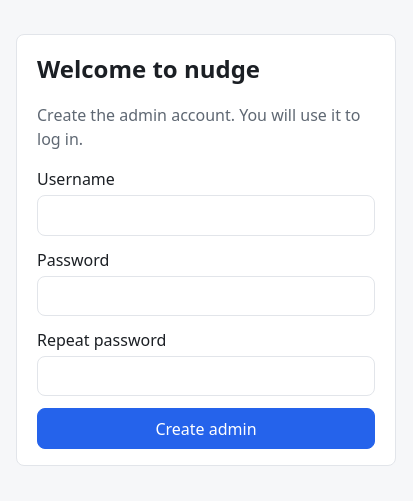
Test: SetupView › shows the server error
In the field named "username": (206, 216) [37,195,375,236], type "admin"
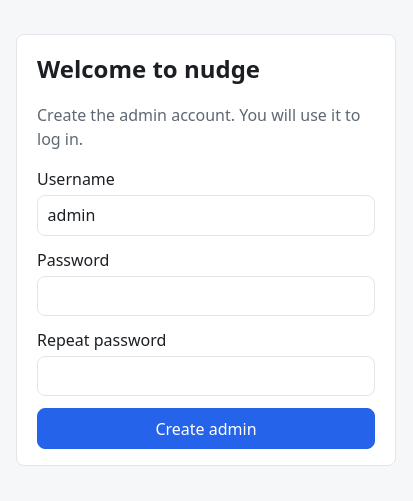
In the password field named "password": (206, 296) [37,276,375,316], type "longenough"
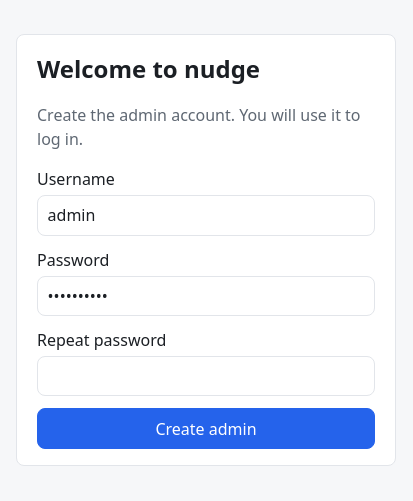
In the password field named "repeat": (206, 376) [37,356,375,396], type "longenough"
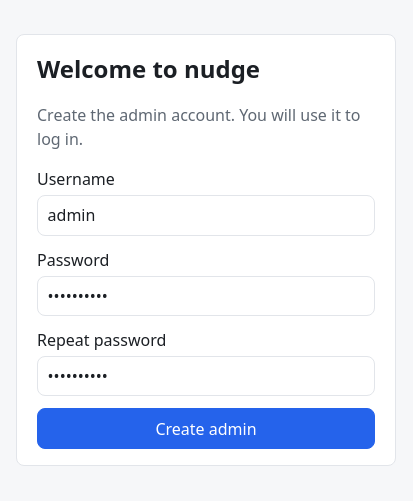
Submit the form, box [37,167,375,449]
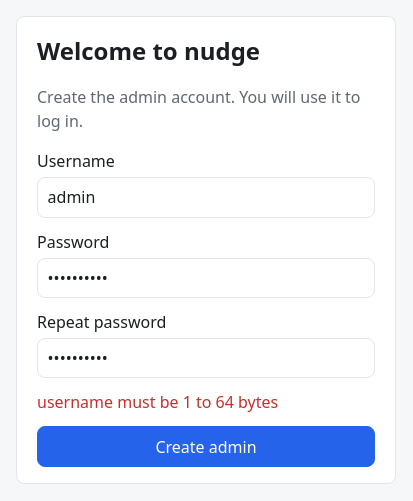
Now the message "username must be 1 to 64 bytes" is shown, box [37,391,278,413]
